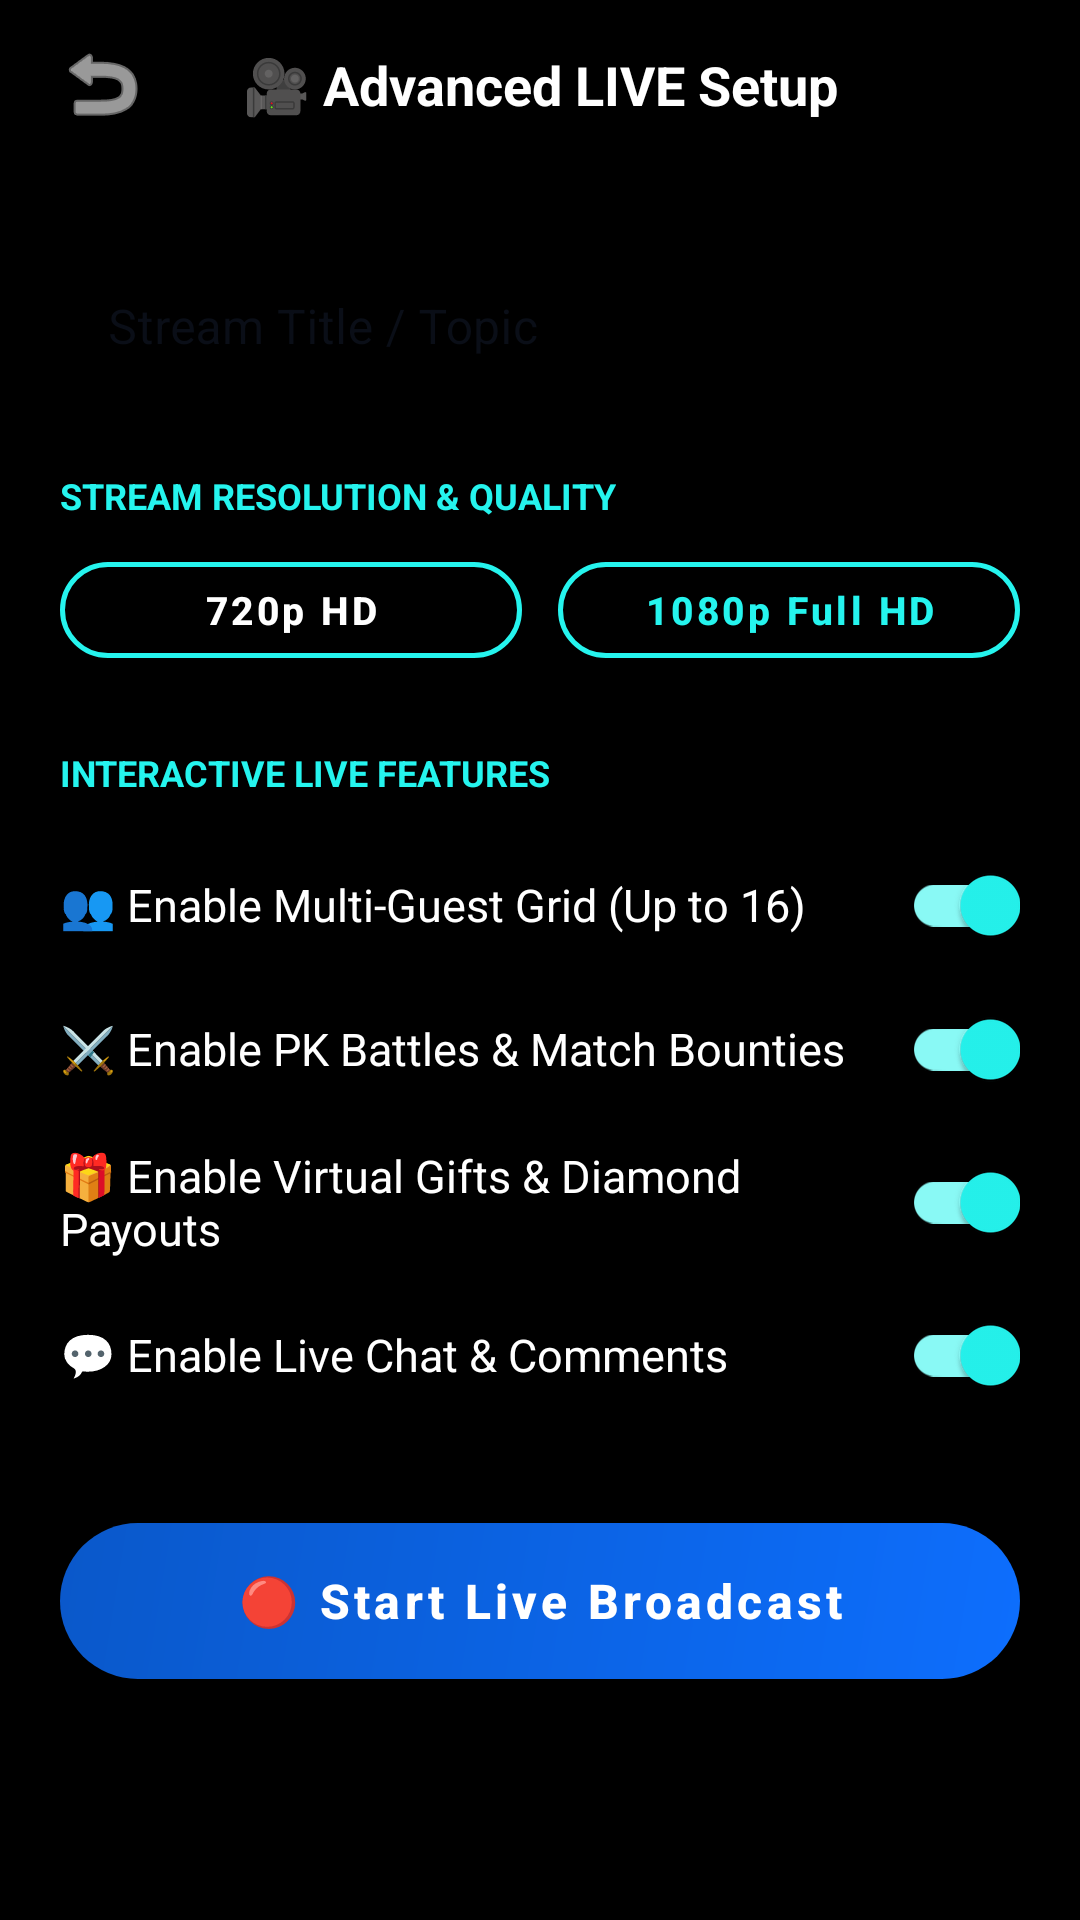

Icon click points for this 1080 x 1920 phone screenshot, format point (x, y):
Back: point (103, 84)
